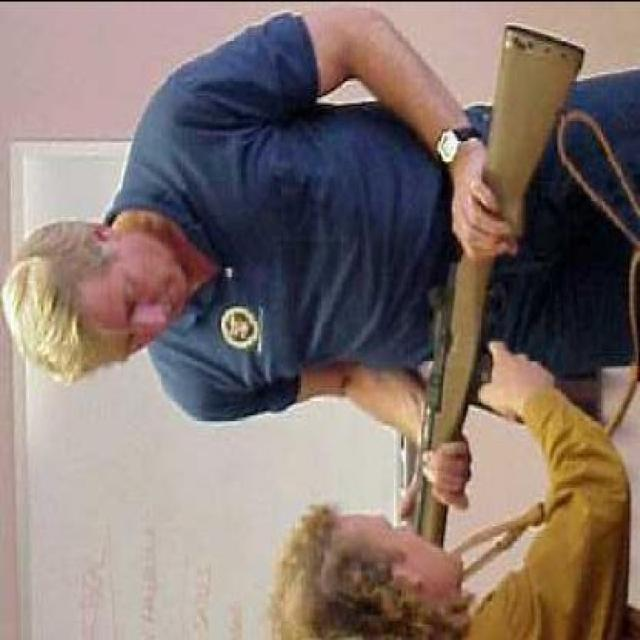Rifle: (397, 22, 586, 550)
